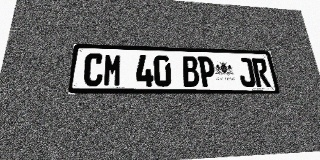0: (154, 55, 172, 87)
4: (136, 54, 154, 87)
B: (181, 56, 200, 87)
C: (83, 53, 104, 87)
J: (237, 58, 256, 87)
M: (103, 54, 122, 87)
P: (198, 56, 216, 87)
R: (251, 58, 271, 87)
